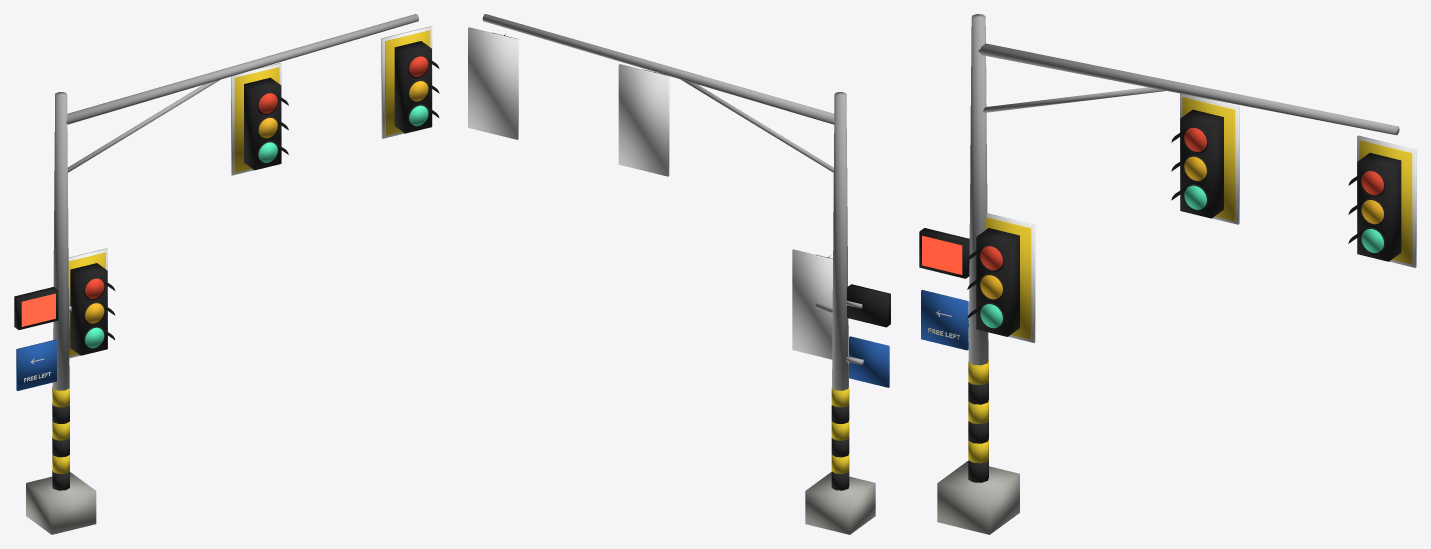
Rendered from traffic_signal.glb.
3 renders of one model, left to right at view 1: azimuth 30°, elevation 25°; view 2: azimuth 150°, elevation 25°; view 3: azimuth 330°, elevation 25°, orthographic. The views are drawn at different scales.
Parts seen in each view (by area): view 1: Signal; view 2: Signal; view 3: Signal.
Boxes of the visible parts, x1=… form: Signal: x1=14, y1=14, x2=439, y2=534; Signal: x1=468, y1=14, x2=890, y2=534; Signal: x1=919, y1=14, x2=1416, y2=534.
Bounding box in the file's own units: 6.57 × 6.4 × 0.92.
